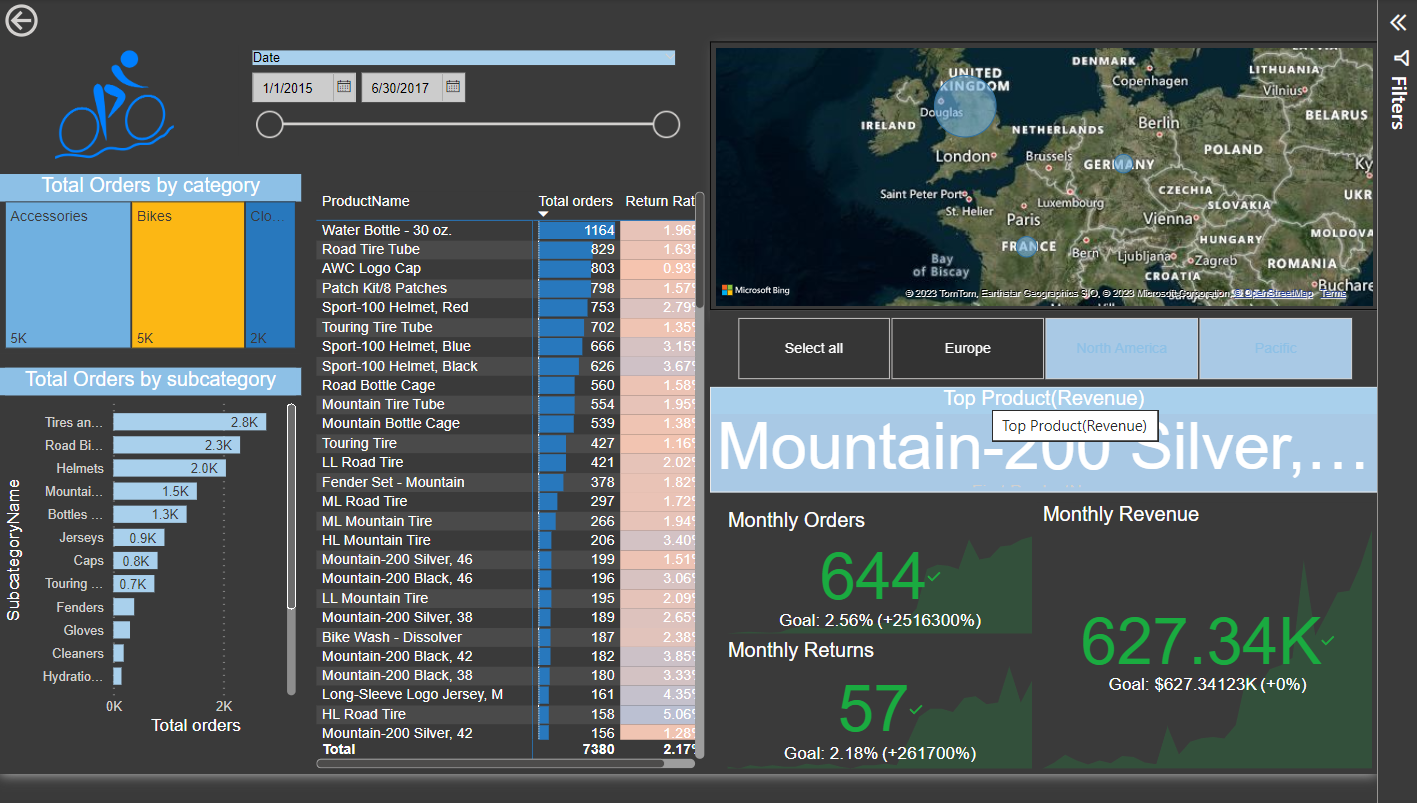

Layout of this report page (visuals, bound fields, positions):
{"tool":"powerbi","page":{"name":"Exec Summary","canvas":[1280,720],"ordinal":0},"visuals":[{"type":"image","box":[0,43,212.6,110.4],"z":0},{"type":"barChart","title":"Total Orders by subcategory","fields":{"Category":["AW_Product_Subcategory_Lookup.SubcategoryName"],"Y":["AW_Sales.Total orders"]},"box":[0,342.8,280,346.3],"z":1000},{"type":"treemap","title":"Total Orders by category","fields":{"Group":["AW_Product_Category_Lookup.CategoryName","AW_Product_Subcategory_Lookup.SubcategoryName"],"Values":["AW_Sales.Total orders"]},"box":[0,162.7,280,167.3],"z":2000},{"type":"pivotTable","fields":{"Values":["AW_Sales.Total orders","AW_Returns.Return Rate"],"Rows":["AW_Product_Category_Lookup.CategoryName","AW_Product_Subcategory_Lookup.SubcategoryName","AW_Product_Lookup.ProductName"]},"box":[289.3,174.3,370.7,546.1],"z":3000},{"type":"slicer","fields":{"Values":["AW_Calendar_Lookup.Date"]},"box":[221.9,43,418.3,102.3],"z":4000},{"type":"kpi","title":"Monthly Revenue ","fields":{"Indicator":["AW_Sales.Total Revenue"],"TrendLine":["AW_Calendar_Lookup.Start of Month"],"Goal":["Sum(AW_Sales.Revenue)"]},"box":[964.4,468.3,316.1,252.1],"z":5000},{"type":"actionButton","box":[0,0,100,40],"z":6000},{"type":"kpi","title":"Monthly Orders","fields":{"TrendLine":["AW_Calendar_Lookup.Start of Month"],"Indicator":["AW_Sales.Total orders"],"Goal":["AW_Sales.% Of orders"]},"box":[671.6,474.1,292.8,120.8],"z":7000},{"type":"kpi","title":"Monthly Returns","fields":{"TrendLine":["AW_Calendar_Lookup.Start of Month"],"Indicator":["AW_Returns.Quantity Returned"],"Goal":["AW_Returns.Return Rate"]},"box":[671.6,594.9,292.8,125.5],"z":8000},{"type":"card","title":"Top Product(Revenue)","fields":{"Values":["Min(AW_Product_Lookup.ProductName)"]},"box":[660,360.2,620.5,98.8],"z":9000},{"type":"map","fields":{"Category":["AW_Territories_Lookup.Country"],"Size":["AW_Sales.Total orders"]},"box":[660,39.5,620.5,249.8],"z":10000},{"type":"slicer","fields":{"Values":["AW_Territories_Lookup.Continent"]},"box":[660,289.3,620.5,70.9],"z":11000}]}

Visuals, with their boxes on the page's 1280x720 design canvas (x1, y1, x2, y2). These are canvas units, not pixel positions in the 1417x803 screenshot, which may show the page scaled, cropped or inside an application window:
image: left=0, top=43, right=213, bottom=153
"Total Orders by subcategory" barChart: left=0, top=343, right=280, bottom=689
"Total Orders by category" treemap: left=0, top=163, right=280, bottom=330
pivotTable - AW_Sales.Total orders x AW_Returns.Return Rate: left=289, top=174, right=660, bottom=720
slicer - AW_Calendar_Lookup.Date: left=222, top=43, right=640, bottom=145
"Monthly Revenue " kpi: left=964, top=468, right=1280, bottom=720
actionButton: left=0, top=0, right=100, bottom=40
"Monthly Orders" kpi: left=672, top=474, right=964, bottom=595
"Monthly Returns" kpi: left=672, top=595, right=964, bottom=720
"Top Product(Revenue)" card: left=660, top=360, right=1280, bottom=459
map - AW_Territories_Lookup.Country x AW_Sales.Total orders: left=660, top=40, right=1280, bottom=289
slicer - AW_Territories_Lookup.Continent: left=660, top=289, right=1280, bottom=360
